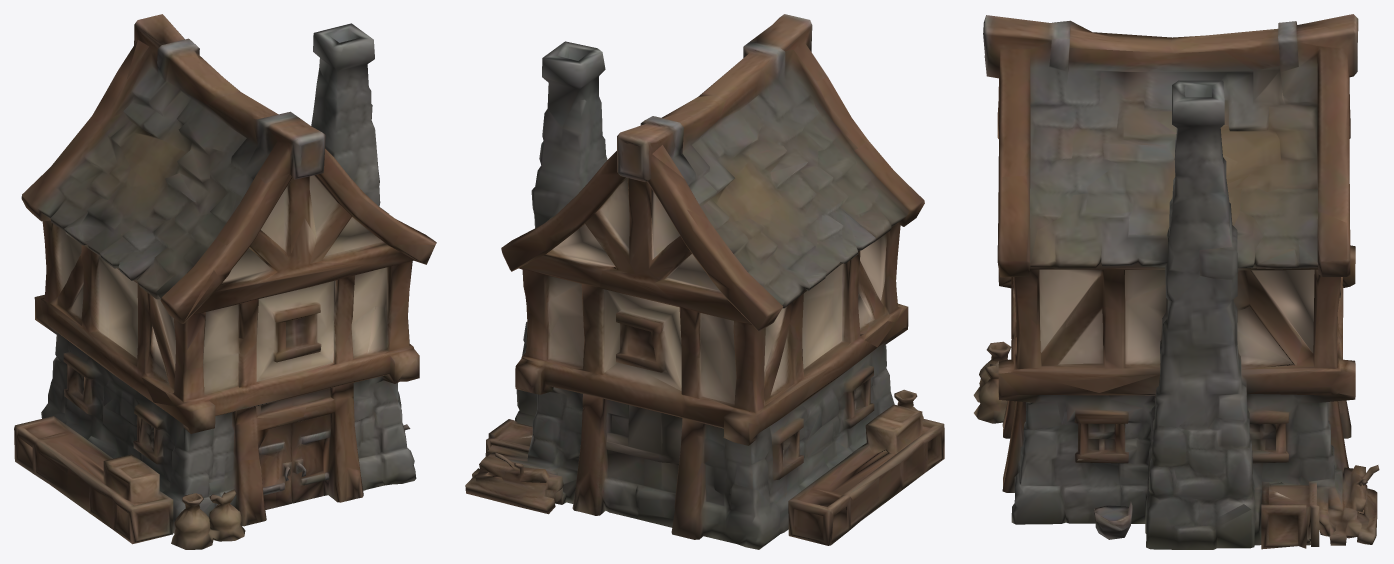
File: cottage.glb
The picture shows the model from 3 angles, left to right: view 1: azimuth 30°, elevation 25°; view 2: azimuth 150°, elevation 25°; view 3: azimuth 270°, elevation 25°; orthographic projection. The views are drawn at different scales.
Parts seen in each view (by area): view 1: Static_Mesh; view 2: Static_Mesh; view 3: Static_Mesh.
Boxes of the visible parts, <box> form: Static_Mesh: <box>14,14,436,549</box>; Static_Mesh: <box>465,14,944,549</box>; Static_Mesh: <box>973,14,1379,549</box>.
Bounding box in the file's own units: 5.03 × 5.61 × 4.7.
1 material, 1 textured.
